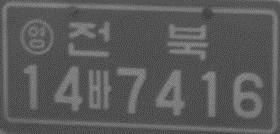1: (194, 69, 224, 118), (18, 63, 47, 110)
4: (154, 69, 185, 116), (53, 65, 83, 111)
6: (230, 71, 264, 120)
7: (115, 64, 147, 114)
바: (87, 68, 112, 110)
영: (19, 18, 54, 56)
전북_D: (66, 20, 209, 61)
